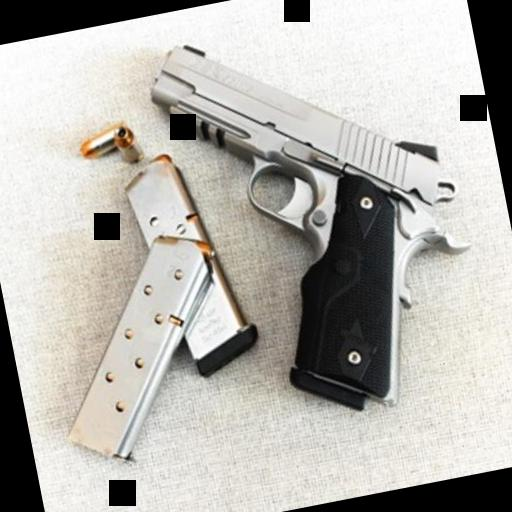Handgun: (135, 0, 498, 441)
